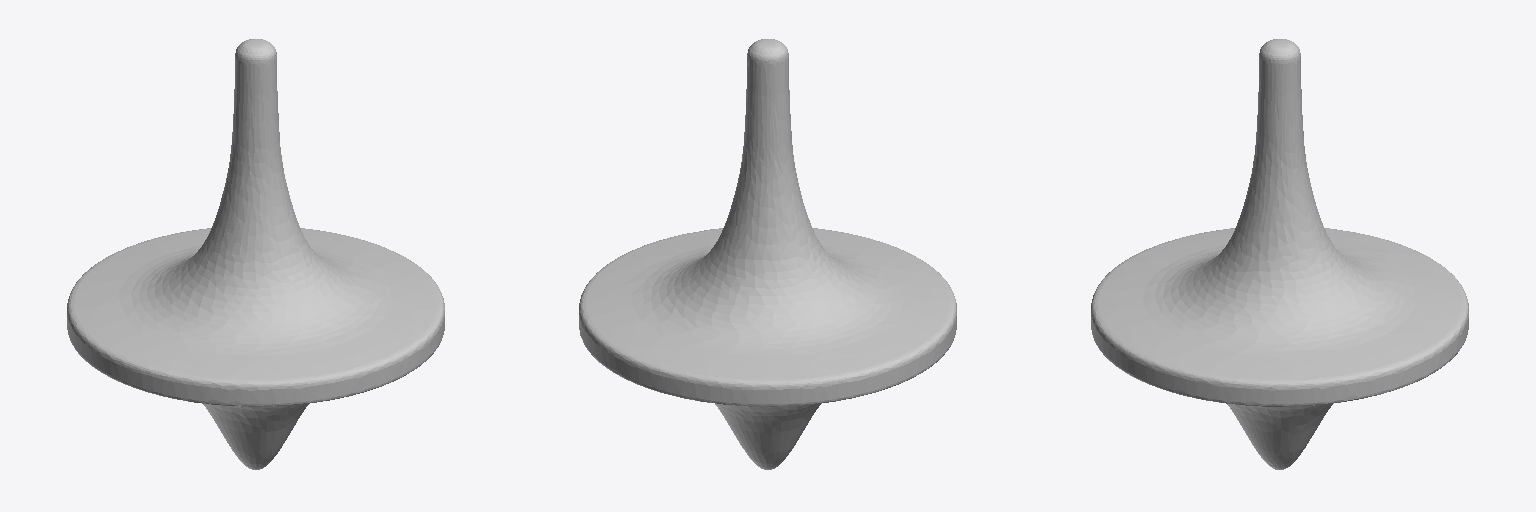
File: whirligig.obj
3 views of the same model, side by side, from view 1: azimuth 30°, elevation 25°; view 2: azimuth 150°, elevation 25°; view 3: azimuth 270°, elevation 25° (orthographic).
Parts seen in each view (by area): view 1: Foreverspin; view 2: Foreverspin; view 3: Foreverspin.
Part boxes in pixels (x1,y1,x2,y2): Foreverspin: (67,39,444,469); Foreverspin: (579,39,956,469); Foreverspin: (1091,39,1468,469).
Size of the model in its own units: 1.43 by 1.78 by 1.43.